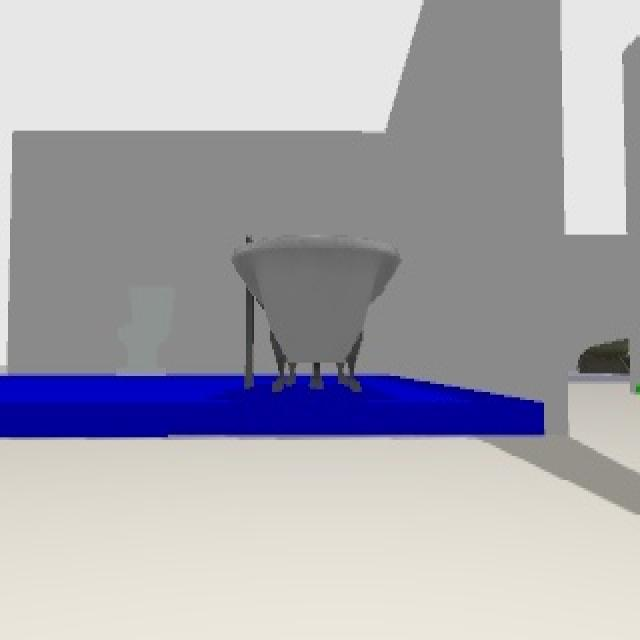bathtub: (230, 237, 402, 392)
